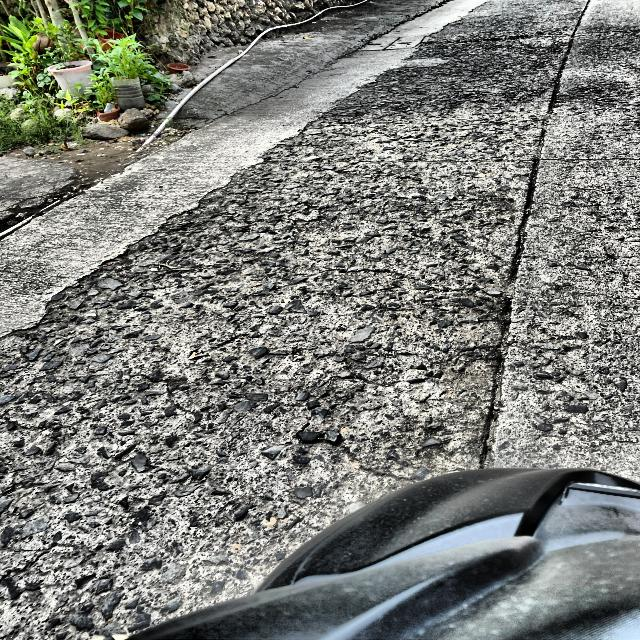major_scaling: (1, 13, 562, 640)
